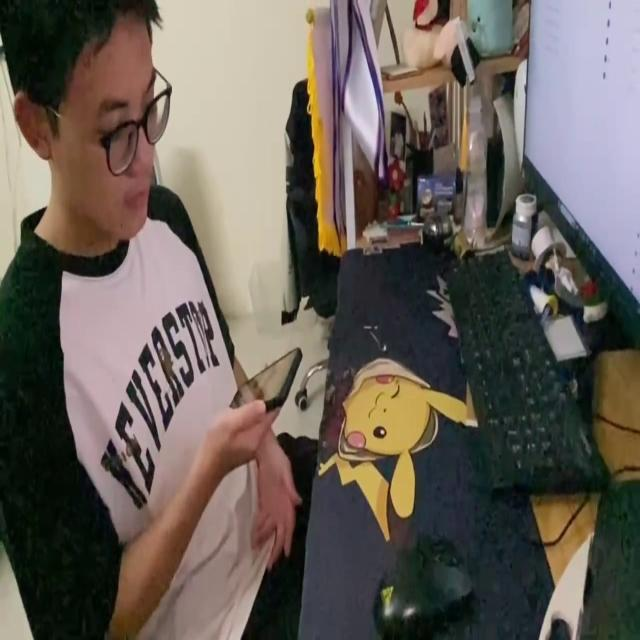laptop: (519, 0, 640, 339)
phone: (228, 344, 300, 412)
student: (0, 2, 307, 640)
